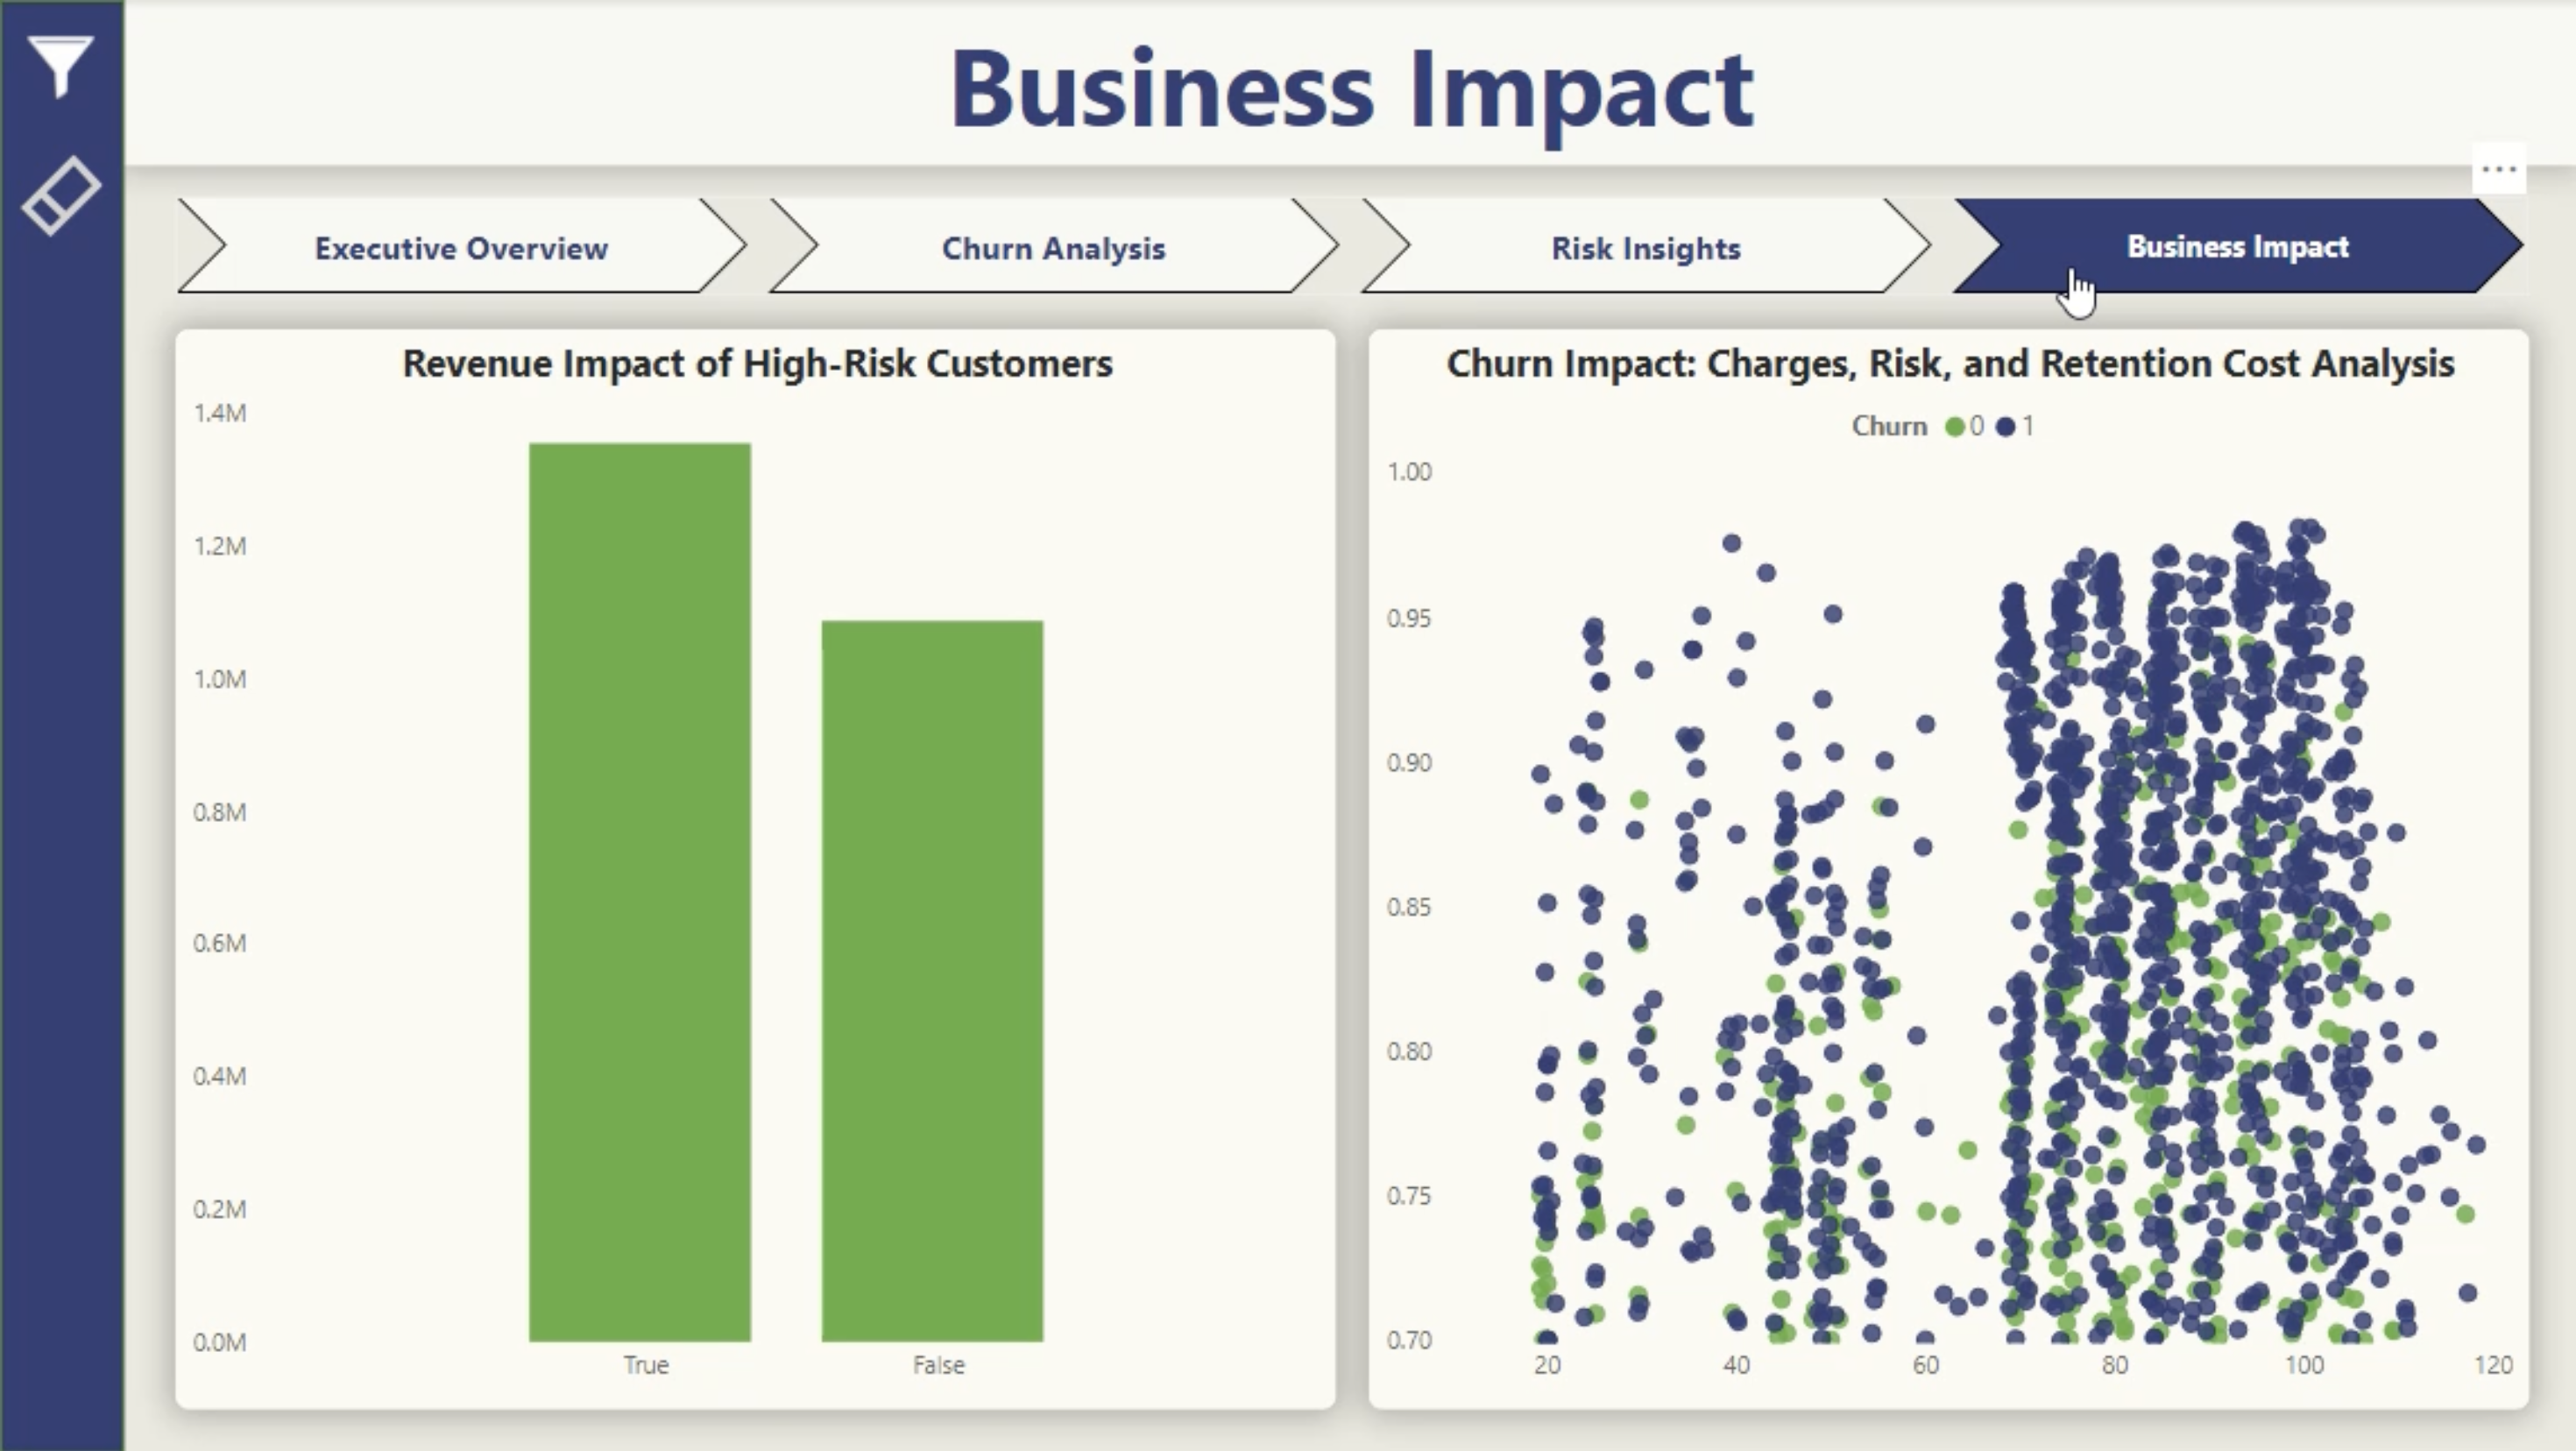

The page's visual inventory and layout, read from the dashboard file:
{"tool":"powerbi","page":{"name":"Business Impact","canvas":[1280,720],"ordinal":3},"visuals":[{"type":"textbox","box":[61.9,0,1218.1,81.7],"z":0},{"type":"columnChart","title":"Revenue Impact of High-Risk Customers","fields":{"Category":["customer_churn_predictions.High_Risk_Customer"],"Y":["Sum(customer_churn_predictions.Expected_Revenue_Saved)"]},"box":[86.7,163.4,575.6,534.8],"z":1000},{"type":"scatterChart","title":"Churn Impact: Charges, Risk, and Retention Cost Analysis","fields":{"Series":["customer_churn_predictions.Churn"],"Category":["customer_churn_predictions.Index"],"X":["Sum(customer_churn_predictions.MonthlyCharges)"],"Y":["Sum(customer_churn_predictions.Churn_Probability)"]},"box":[679.6,163.4,575.6,534.8],"z":2000},{"type":"shape","box":[0,0,61.9,720.5],"z":3000},{"type":"actionButton","box":[0,0,60.7,64.4],"z":4000},{"type":"actionButton","title":"Clear Filters","box":[0,73,60.7,49.5],"z":5000},{"type":"pageNavigator","box":[86.7,97.8,1168.6,48.3],"z":6000}]}

Visuals, with their boxes on the page's 1280x720 design canvas (x1, y1, x2, y2). These are canvas units, not pixel positions in the 2576x1451 screenshot, which may show the page scaled, cropped or inside an application window:
textbox: {"x1": 62, "y1": 0, "x2": 1280, "y2": 82}
"Revenue Impact of High-Risk Customers" columnChart: {"x1": 87, "y1": 163, "x2": 662, "y2": 698}
"Churn Impact: Charges, Risk, and Retention Cost Analysis" scatterChart: {"x1": 680, "y1": 163, "x2": 1255, "y2": 698}
shape: {"x1": 0, "y1": 0, "x2": 62, "y2": 720}
actionButton: {"x1": 0, "y1": 0, "x2": 61, "y2": 64}
"Clear Filters" actionButton: {"x1": 0, "y1": 73, "x2": 61, "y2": 122}
pageNavigator: {"x1": 87, "y1": 98, "x2": 1255, "y2": 146}
